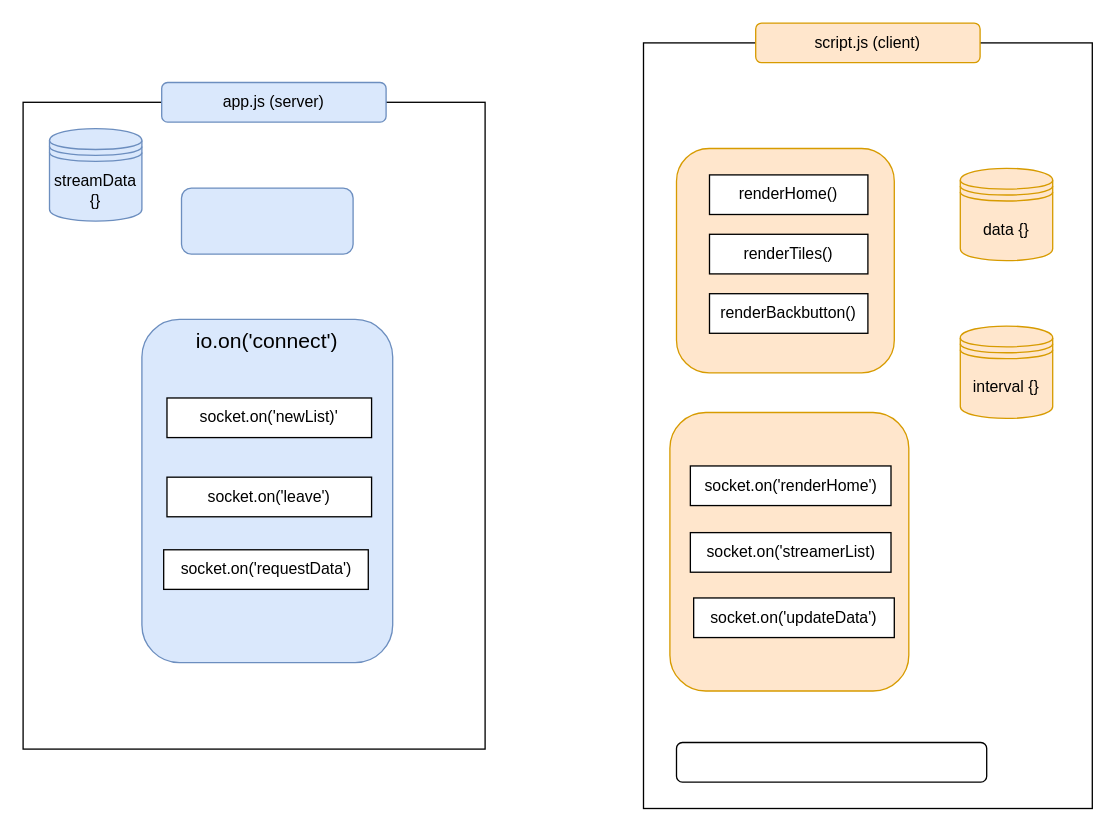
This 1115x832 diagram has some shape labels left out. Here are the shapes that lost their labels. From the top down, the centre of each, then its label:
At (x=266, y=220): "Axios.get()".
At (x=831, y=761): "window.addEventListener('hashchange')".
